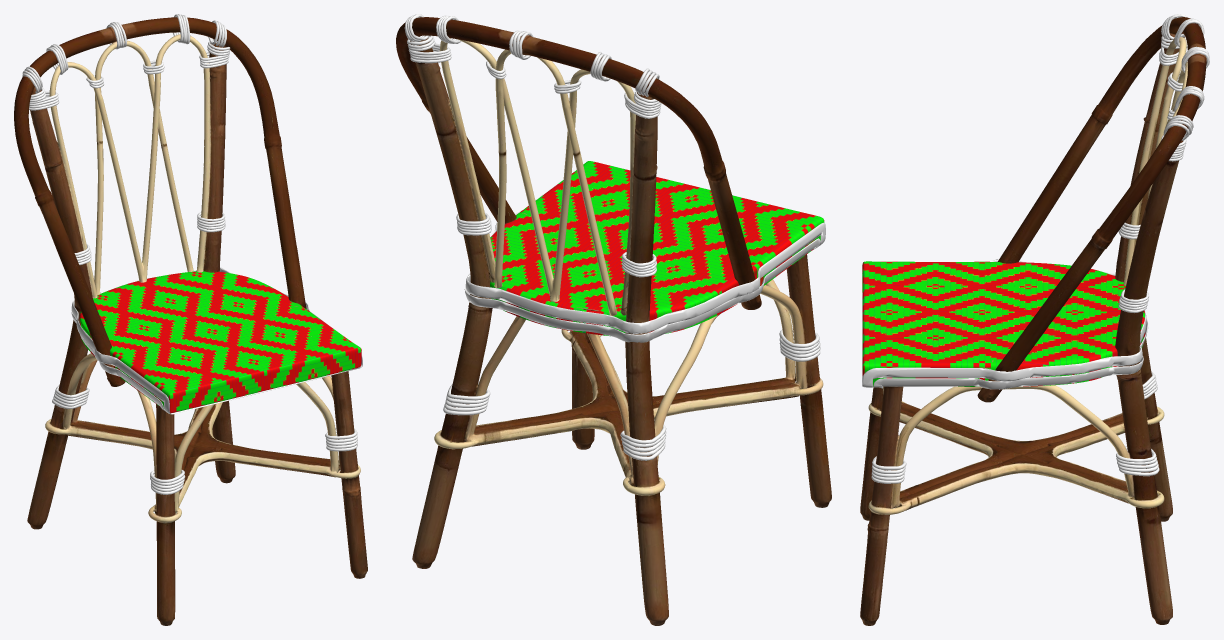
Rendered from harpe-serge.glb.
3 views of the same model, side by side, from view 1: azimuth 30°, elevation 25°; view 2: azimuth 150°, elevation 25°; view 3: azimuth 270°, elevation 25° (orthographic). The views are drawn at different scales.
Visible parts, largest first — view 1: mesh_structure, mesh_tressage, mesh_laniere; view 2: mesh_structure, mesh_tressage, mesh_laniere; view 3: mesh_structure, mesh_tressage, mesh_laniere.
Part boxes in pixels (left/top/right/bottom): mesh_structure: left=14, top=17, right=367, bottom=625; mesh_tressage: left=79, top=271, right=361, bottom=413; mesh_laniere: left=22, top=14, right=362, bottom=494; mesh_structure: left=396, top=17, right=831, bottom=625; mesh_tressage: left=490, top=161, right=824, bottom=336; mesh_laniere: left=404, top=14, right=825, bottom=460; mesh_structure: left=860, top=17, right=1206, bottom=625; mesh_tressage: left=862, top=261, right=1145, bottom=386; mesh_laniere: left=862, top=14, right=1209, bottom=483.
Size of the model in its own units: 0.5059 by 0.9057 by 0.5489.
3 materials, 2 textured.
